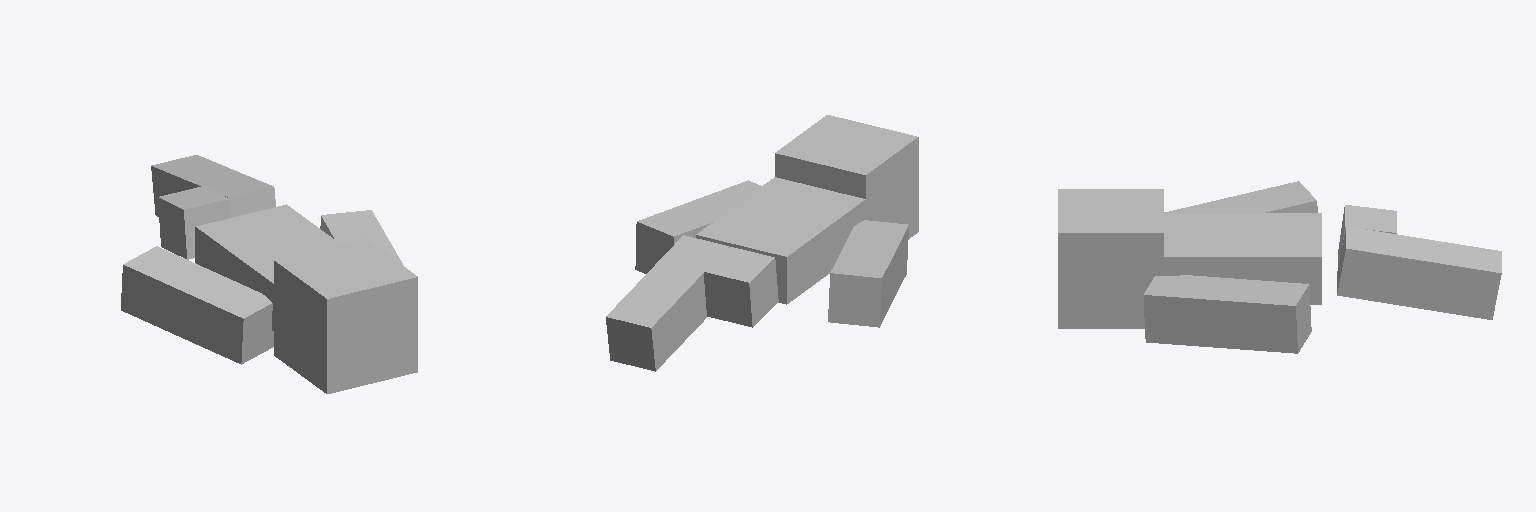
Rendered from exo_full_broken.obj.
3 renders of one model, left to right at view 1: azimuth 30°, elevation 25°; view 2: azimuth 150°, elevation 25°; view 3: azimuth 270°, elevation 25°, orthographic.
Visible parts, largest first — view 1: Full_Frambody.002; view 2: Full_Frambody.002; view 3: Full_Frambody.002.
Boxes of the visible parts, box(x1,y1,x2,y2) form: Full_Frambody.002: box(121, 155, 417, 393); Full_Frambody.002: box(606, 115, 918, 371); Full_Frambody.002: box(1058, 181, 1501, 353).
Bounding box in the file's own units: 1.35 × 0.5 × 2.11.